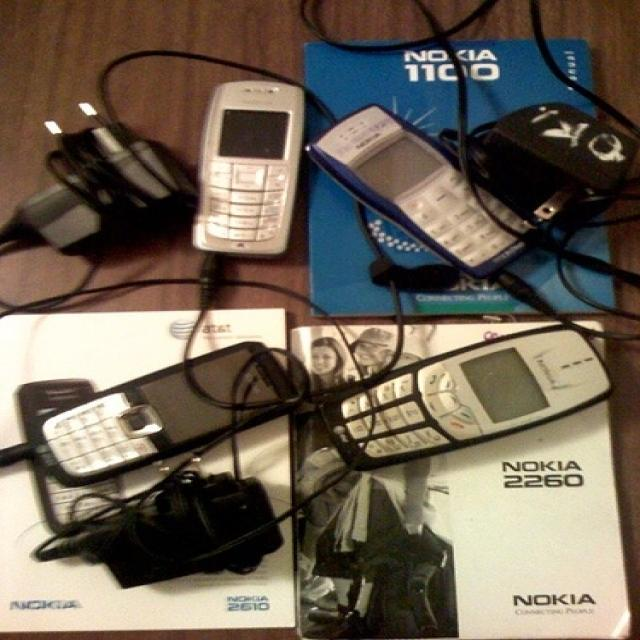Cable: (0, 230, 402, 388), (284, 6, 598, 101), (214, 369, 352, 472)
E-waste: (321, 105, 621, 254), (377, 312, 640, 462), (11, 476, 290, 592), (192, 76, 316, 258)
